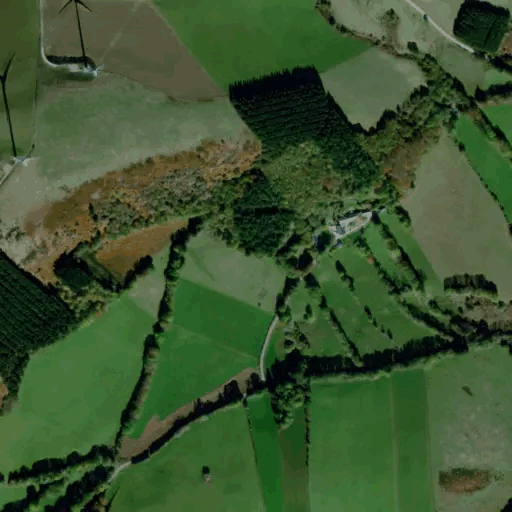wt: (1, 50, 45, 180), (56, 1, 109, 89)
